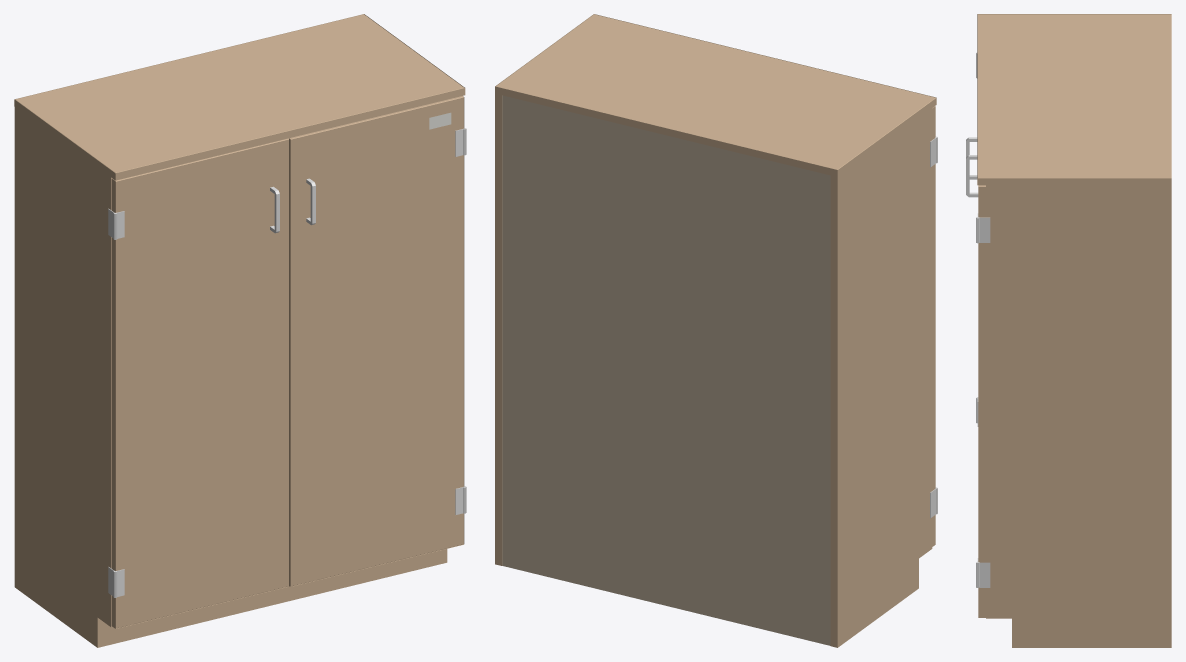
File: Kit_PlyCabinet.fbx
3 renders of one model, left to right at view 1: azimuth 30°, elevation 25°; view 2: azimuth 150°, elevation 25°; view 3: azimuth 270°, elevation 25°, orthographic. The views are drawn at different scales.
Parts seen in each view (by area): view 1: Kit_PlyCabinet; view 2: Kit_PlyCabinet; view 3: Kit_PlyCabinet.
Part boxes in pixels (x1,y1,x2,y2): Kit_PlyCabinet: [14, 14, 466, 647]; Kit_PlyCabinet: [495, 14, 937, 647]; Kit_PlyCabinet: [966, 14, 1171, 647].
Bounding box in the file's own units: 0.9063 × 1.2 × 0.4763.
